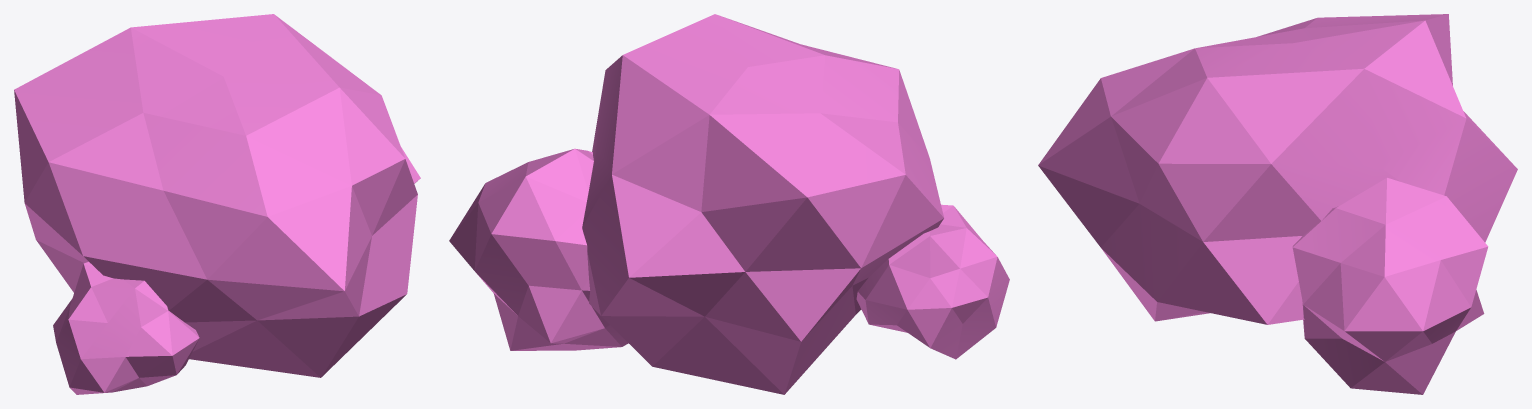
The model's file is Mountain_RockLarge.fbx.
3 renders of one model, left to right at view 1: azimuth 30°, elevation 25°; view 2: azimuth 150°, elevation 25°; view 3: azimuth 270°, elevation 25°, orthographic. The views are drawn at different scales.
Visible parts, largest first — view 1: Rock; view 2: Rock; view 3: Rock.
Part boxes in pixels (x1=…): Rock: x1=14, y1=14, x2=420, y2=394; Rock: x1=449, y1=14, x2=1009, y2=394; Rock: x1=1038, y1=14, x2=1517, y2=394.
Size of the model in its own units: 21.13 by 13.58 by 20.46.
Materials: 1 (1 with a texture image).
